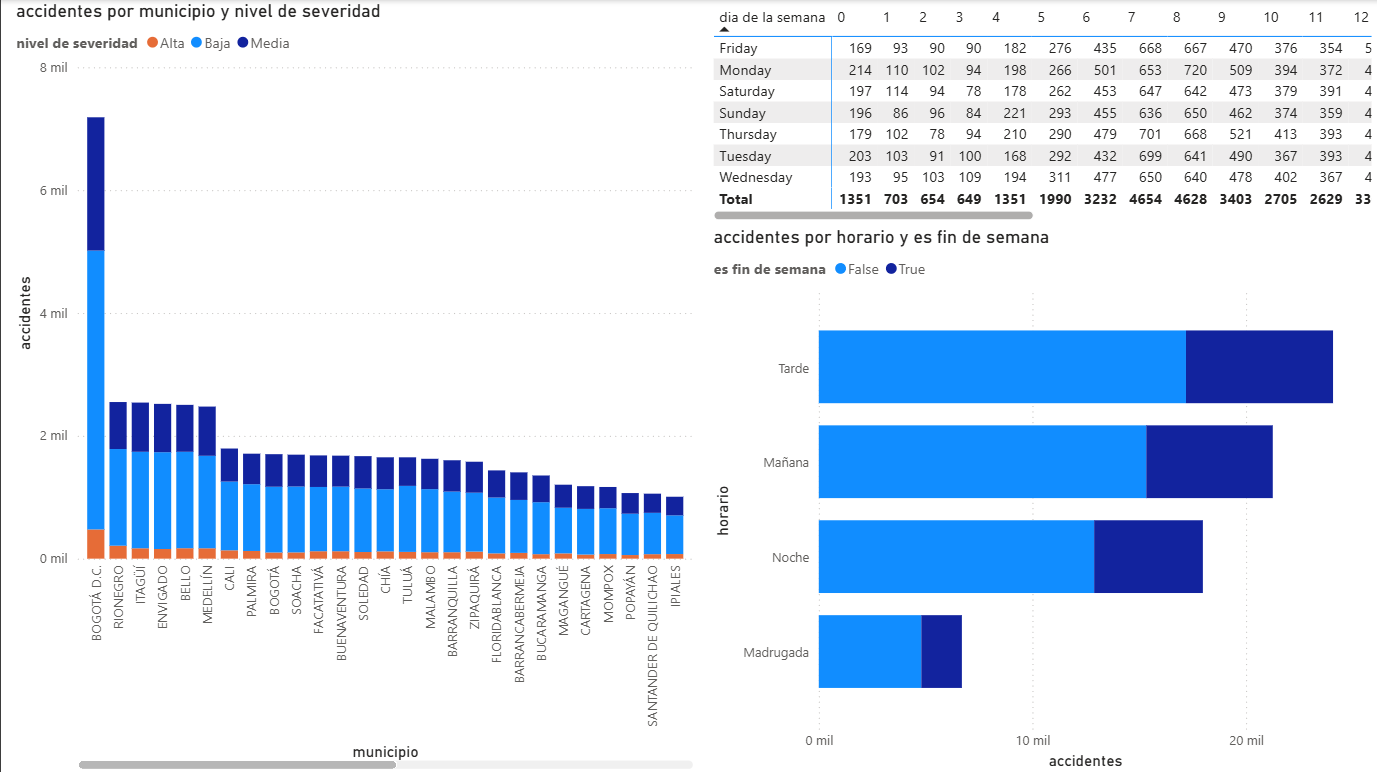

The page's visual inventory and layout, read from the dashboard file:
{"tool":"powerbi","page":{"name":"Página 3","canvas":[1280,720],"ordinal":2},"visuals":[{"type":"columnChart","fields":{"Category":["dw dim_ubicacion.municipio"],"Y":["Sum(dw fact_accidentes.cantidad)"],"Series":["dw dim_gravedad.nivel_severidad"]},"box":[9.6,0,639.5,720.4],"z":0},{"type":"pivotTable","fields":{"Rows":["dw dim_tiempo.dia_semana"],"Values":["Sum(dw fact_accidentes.cantidad)"],"Columns":["dw dim_tiempo.hora"]},"box":[658.7,0,621.6,209.9],"z":1000},{"type":"barChart","fields":{"Category":["dw dim_tiempo.grupo_horario"],"Series":["dw dim_tiempo.es_fin_semana"],"Y":["Sum(dw fact_accidentes.cantidad)"]},"box":[658.7,209.9,621.6,510.5],"z":2000}]}

Visuals, with their boxes in screenshot pixels (x1, y1, x2, y2), scaled from the page's 1280x720 canvas onto the 1377x772 screenshot:
columnChart - dw dim_ubicacion.municipio x Sum(dw fact_accidentes.cantidad): [10,0,698,771]
pivotTable - dw dim_tiempo.dia_semana x Sum(dw fact_accidentes.cantidad): [709,0,1376,225]
barChart - dw dim_tiempo.grupo_horario x dw dim_tiempo.es_fin_semana: [709,225,1376,771]
